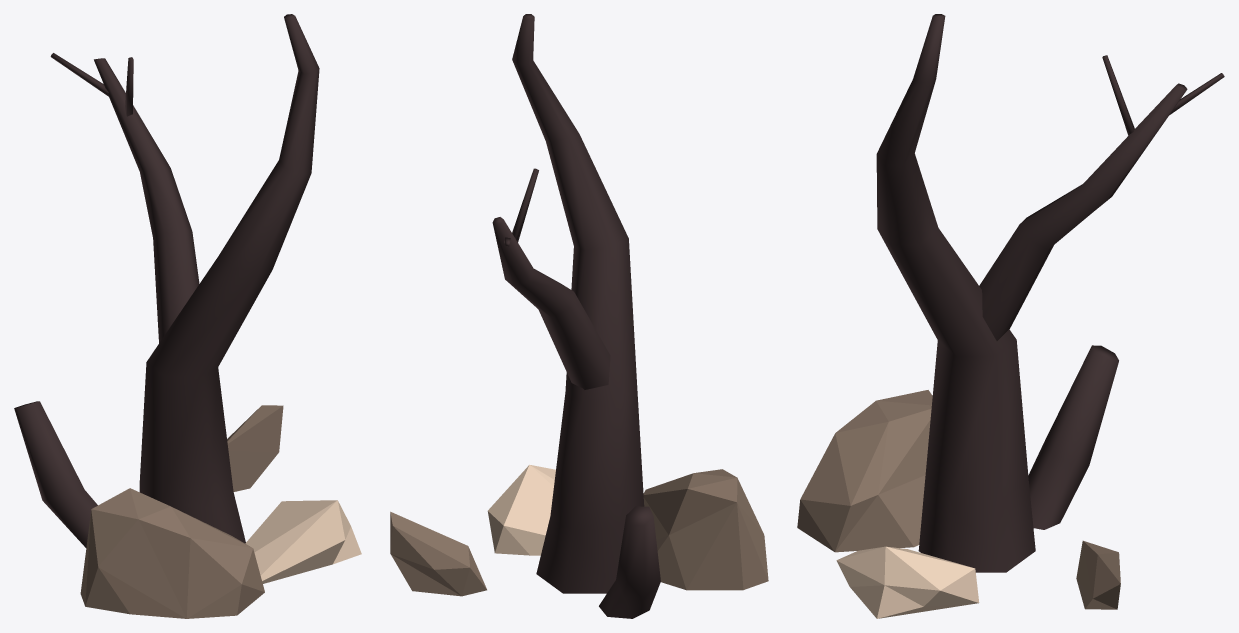
Rendered from Tree 4.glb.
3 renders of one model, left to right at view 1: azimuth 30°, elevation 25°; view 2: azimuth 150°, elevation 25°; view 3: azimuth 270°, elevation 25°, orthographic. The views are drawn at different scales.
Parts seen in each view (by area): view 1: Tree 4; view 2: Tree 4; view 3: Tree 4.
Boxes of the visible parts, <box> form: Tree 4: <box>14,14,361,618</box>; Tree 4: <box>390,14,768,618</box>; Tree 4: <box>797,14,1224,618</box>.
Size of what is drawn, in the model's own units: 1.94 by 3.42 by 2.28.
1 material, 1 textured.
